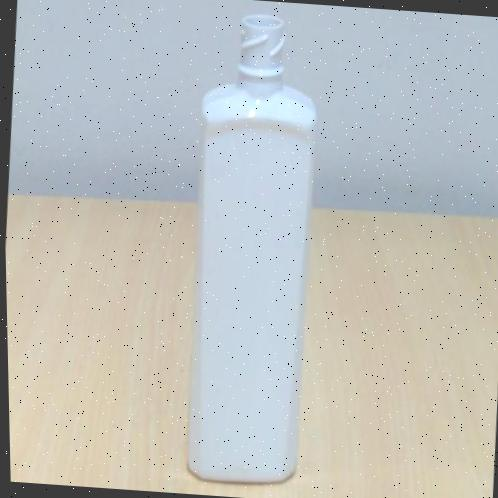bottle: (186, 15, 315, 481)
